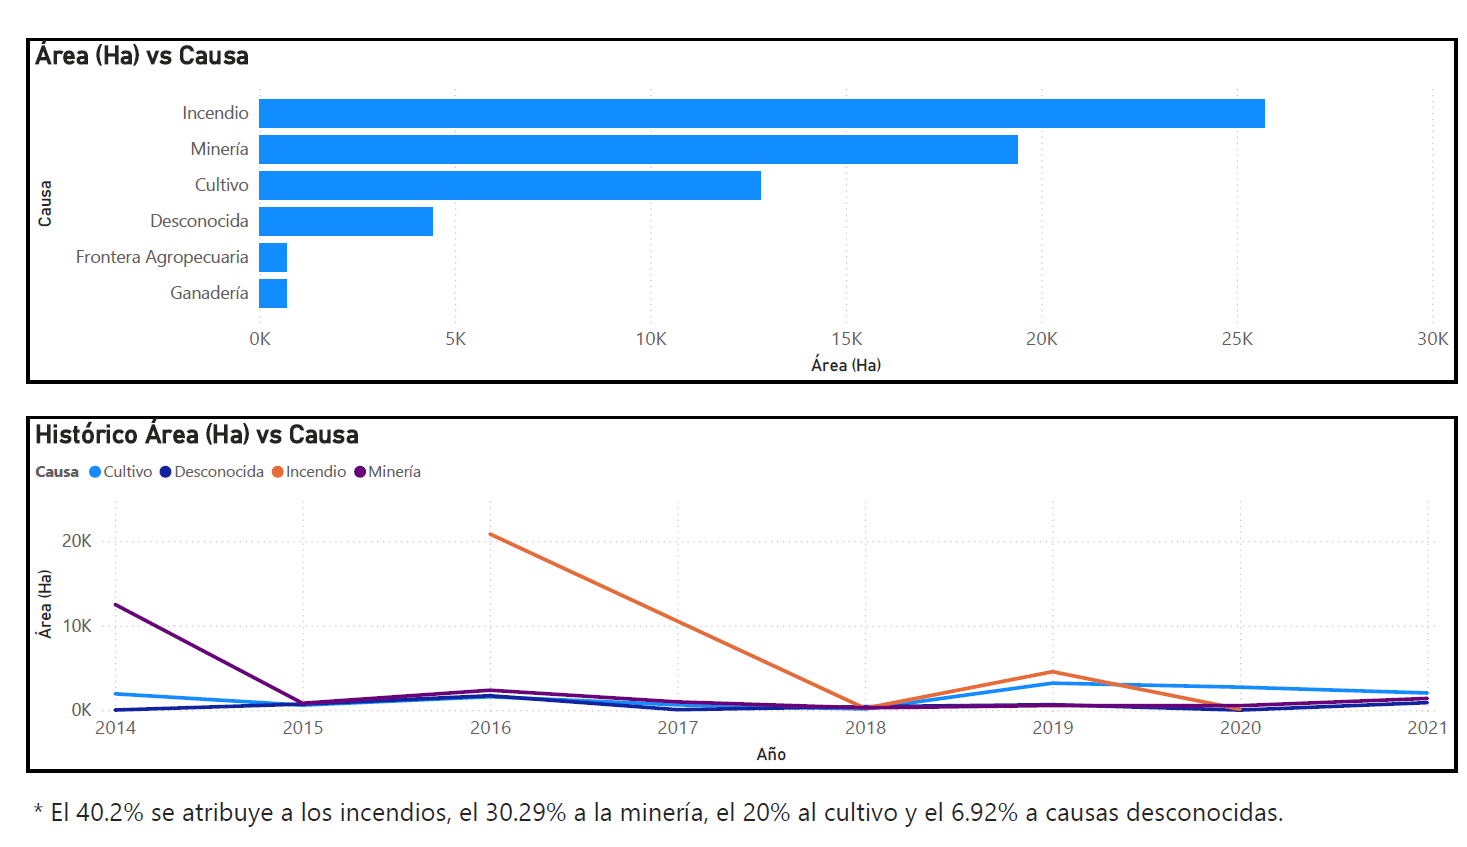

The dashboard page shown, as its layout file describes it:
{"tool":"powerbi","page":{"name":"Causas Deforestación","canvas":[1280,720],"ordinal":1},"visuals":[{"type":"lineChart","title":"Histórico Área (Ha) vs Causa","fields":{"Category":["AREAS_DEFORESTADAS_CHOCO_20250710.AÑO"],"Y":["Sum(AREAS_DEFORESTADAS_CHOCO_20250710.AREA_Ha)"],"Series":["AREAS_DEFORESTADAS_CHOCO_20250710.CAUSA"]},"box":[27.4,349.9,1197.9,297.8],"z":3},{"type":"clusteredBarChart","title":"Área (Ha) vs Causa","fields":{"Category":["AREAS_DEFORESTADAS_CHOCO_20250710.CAUSA"],"Y":["Sum(AREAS_DEFORESTADAS_CHOCO_20250710.Area Ha)"]},"box":[27.4,32.9,1197.9,289.5],"z":4},{"type":"textbox","box":[27.4,661.4,1162.3,59],"z":6}]}

Visuals, with their boxes in screenshot pixels (x1, y1, x2, y2), scaled from the page's 1280x720 canvas onto the 1467x847 screenshot:
"Histórico Área (Ha) vs Causa" lineChart: rect(31, 412, 1404, 762)
"Área (Ha) vs Causa" clusteredBarChart: rect(31, 39, 1404, 379)
textbox: rect(31, 778, 1364, 846)
